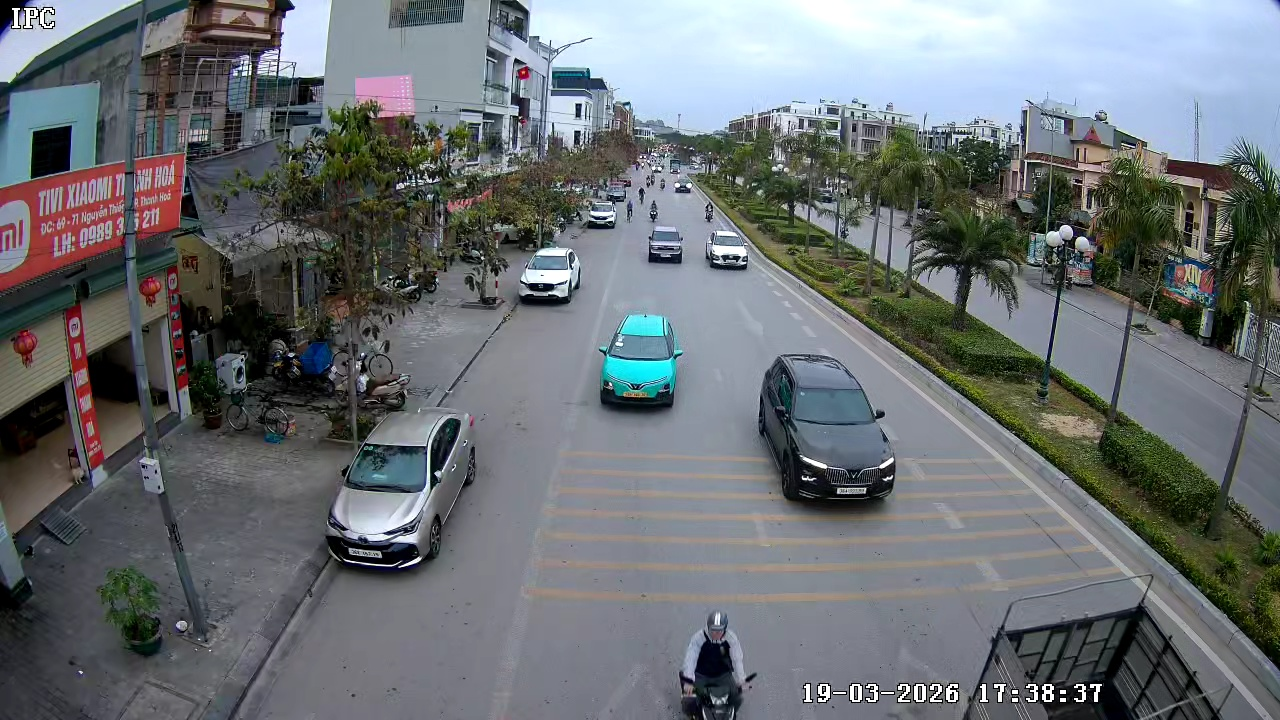car: (324, 406, 478, 572), (756, 351, 897, 502), (596, 311, 685, 410), (518, 246, 582, 304), (705, 227, 750, 271), (646, 222, 685, 264), (583, 197, 619, 229), (673, 177, 694, 197)
motorbike: (676, 610, 758, 719), (355, 343, 413, 412), (646, 197, 662, 223), (702, 201, 716, 223)
